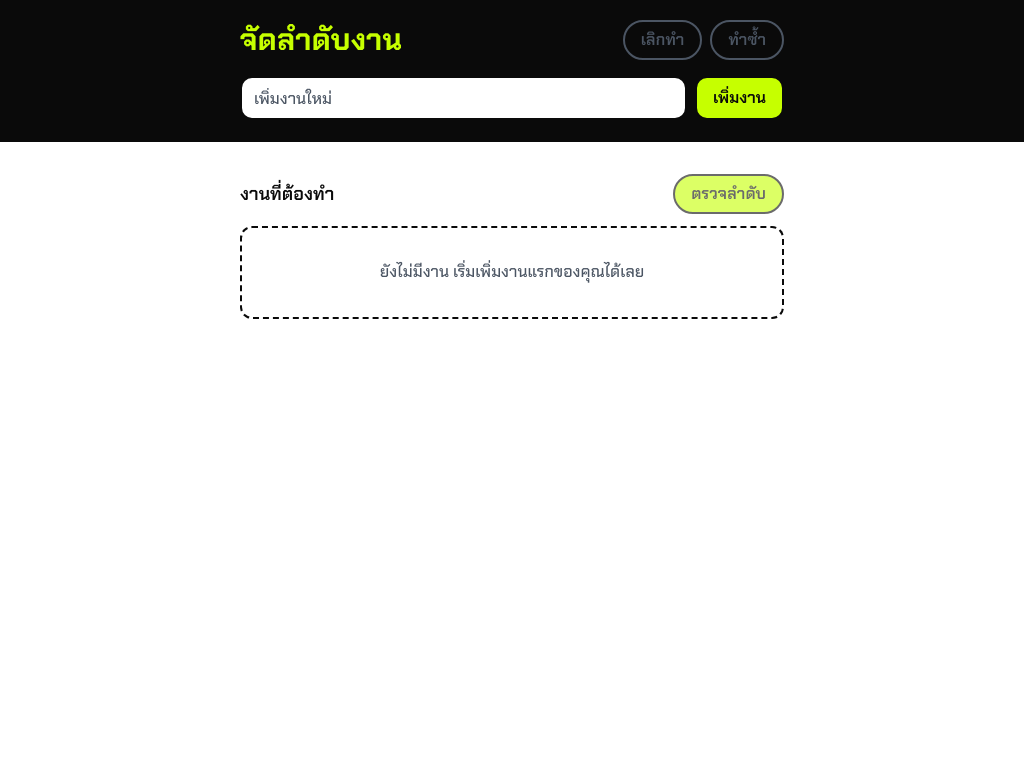
review mode (slice 1) › AC-6.4 focus goes to the upper card on open and back to the review button after closing with close on the summary
Step 1. Type "A" into the field labelled "เพิ่มงานใหม่" → (464, 98), box x1=240 y1=76 x2=687 y2=120
Then press Enter
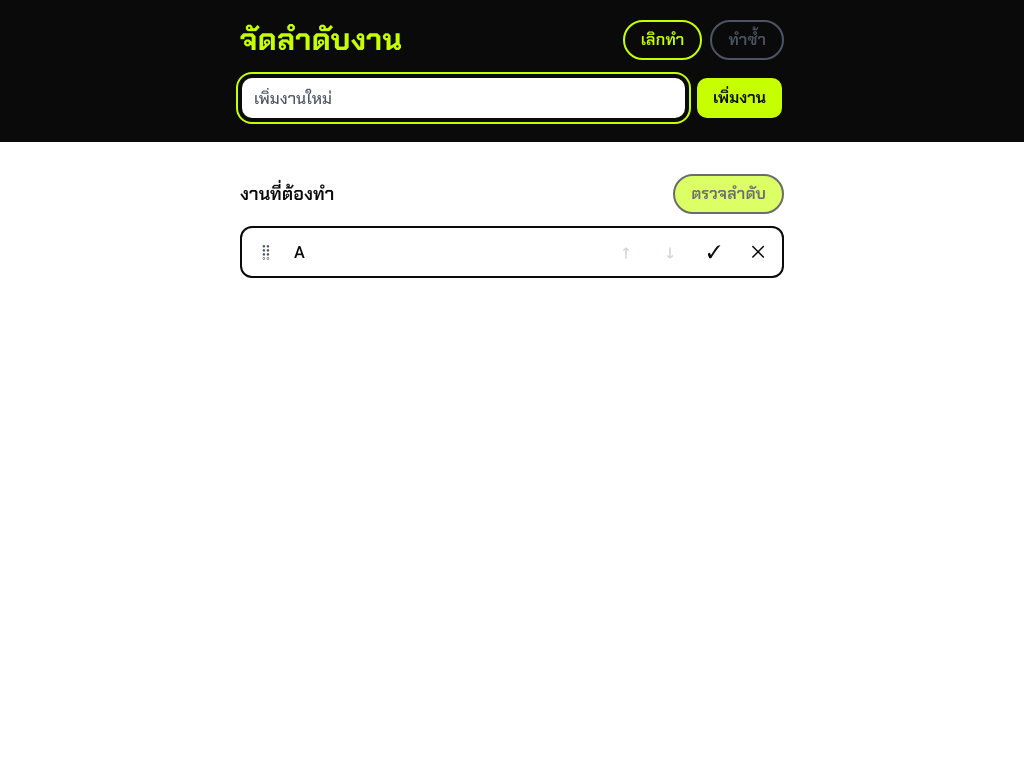
Step 2. Type "B" into the field labelled "เพิ่มงานใหม่" → (464, 98), box x1=240 y1=76 x2=687 y2=120
Then press Enter
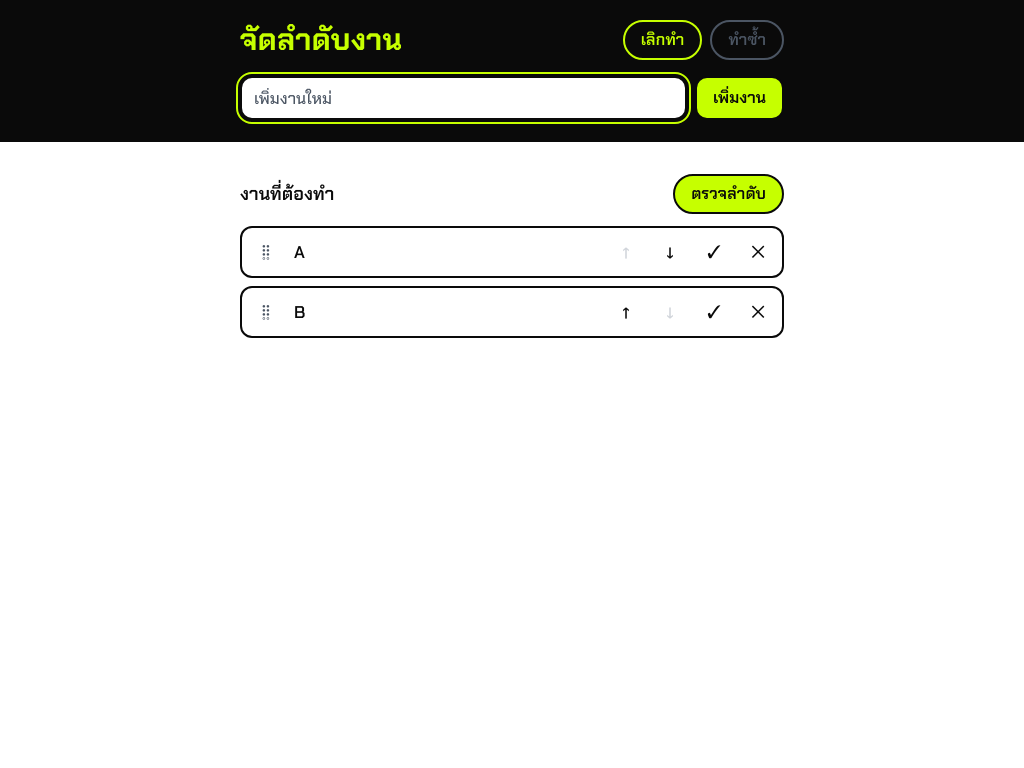
Step 3. Click the button "ตรวจลำดับ" → (729, 194), box x1=673 y1=174 x2=784 y2=214
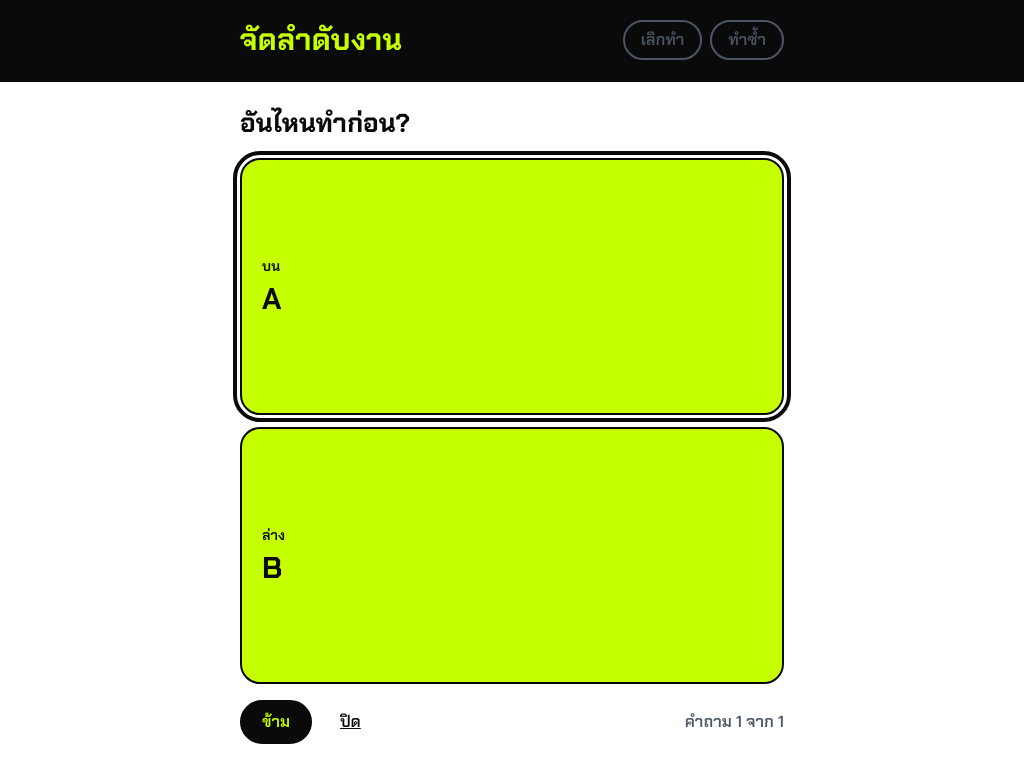
Step 4. Click the button "ล่าง B" → (274, 535), box x1=240 y1=427 x2=784 y2=684
Wait 800 ms
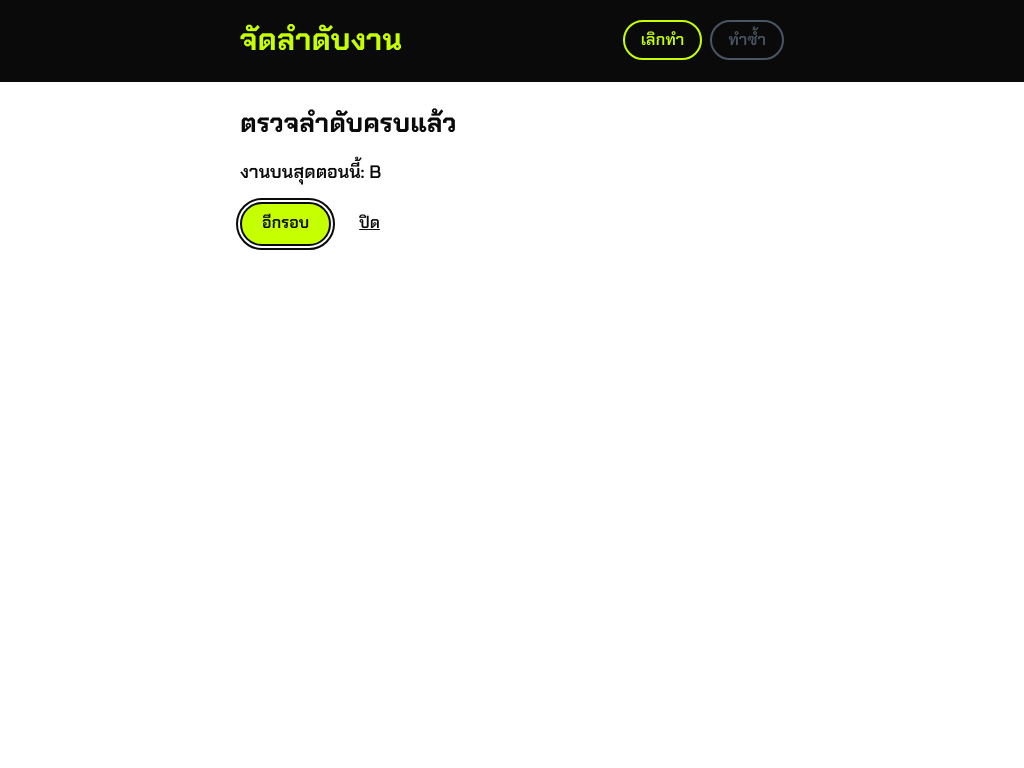
Step 5. Click the button "ปิด" → (370, 224), box x1=339 y1=202 x2=400 y2=246
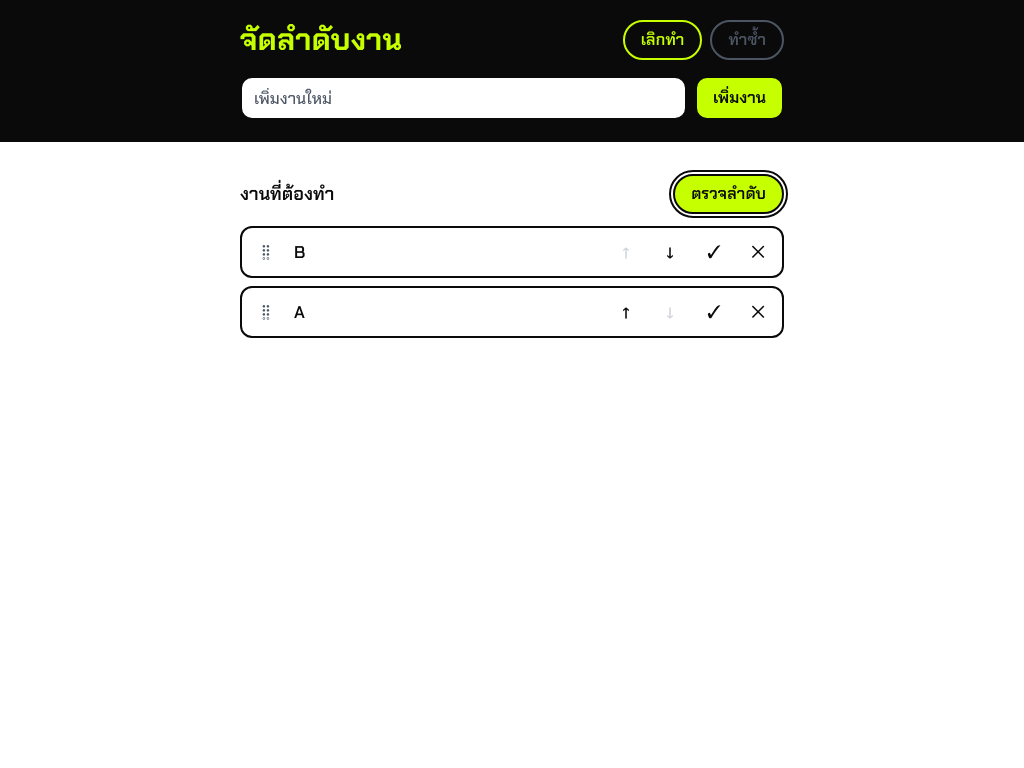
Expected: the dialog is gone
